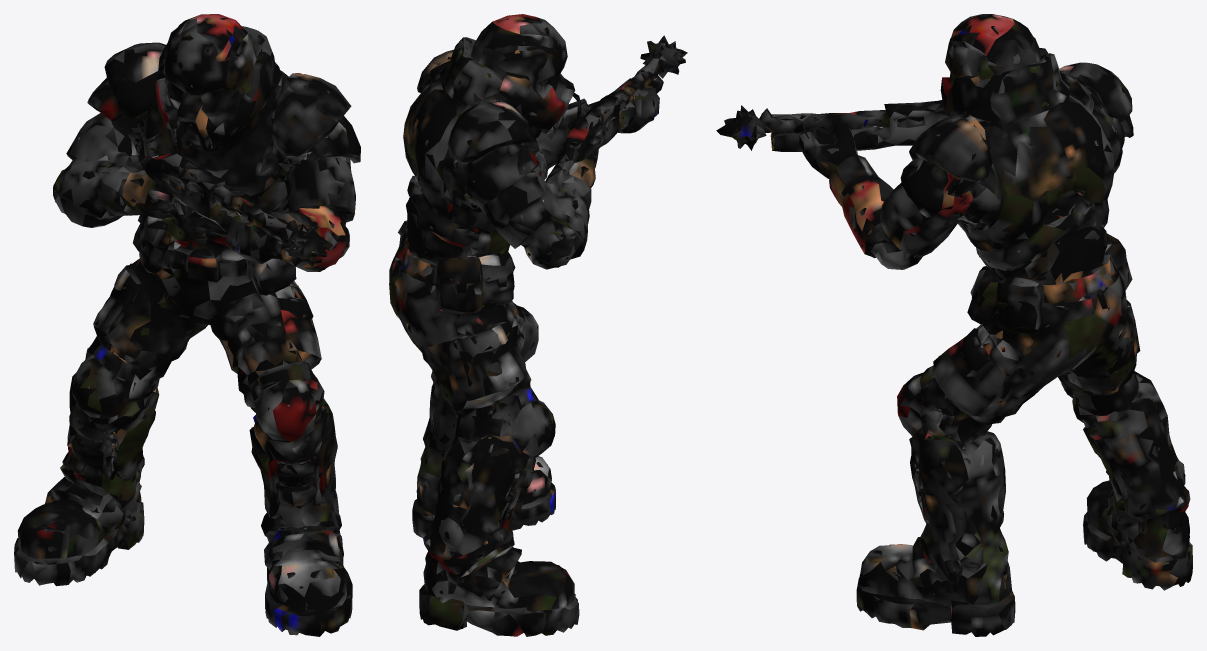
The model's file is SPOSF1.obj.
3 views of the same model, side by side, from view 1: azimuth 30°, elevation 25°; view 2: azimuth 150°, elevation 25°; view 3: azimuth 270°, elevation 25° (orthographic). The views are drawn at different scales.
Bounding box in the file's own units: 0.4473 × 1 × 0.768.
1 material, 1 textured.
